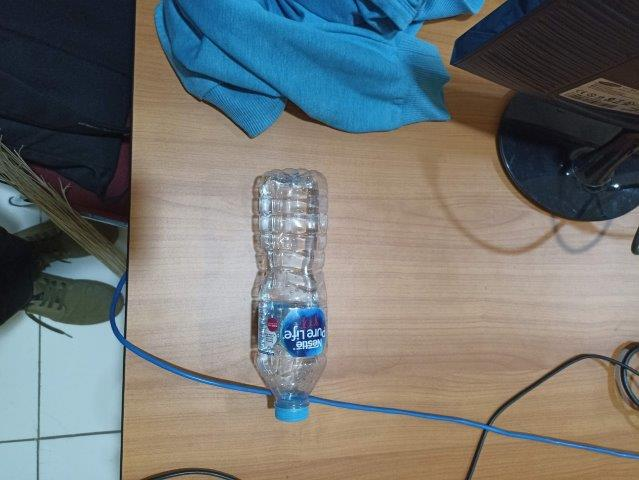botolplastik: (256, 168, 329, 422)
